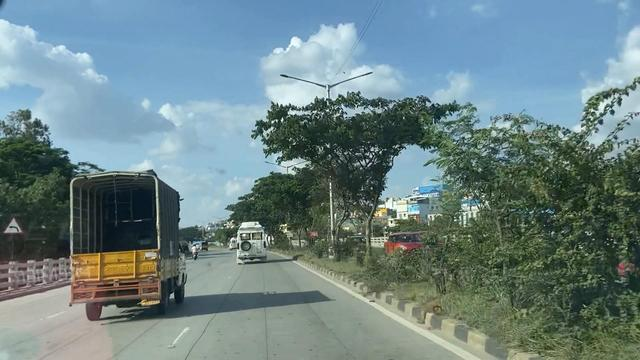HMV: (74, 177, 190, 321), (233, 221, 269, 258)
